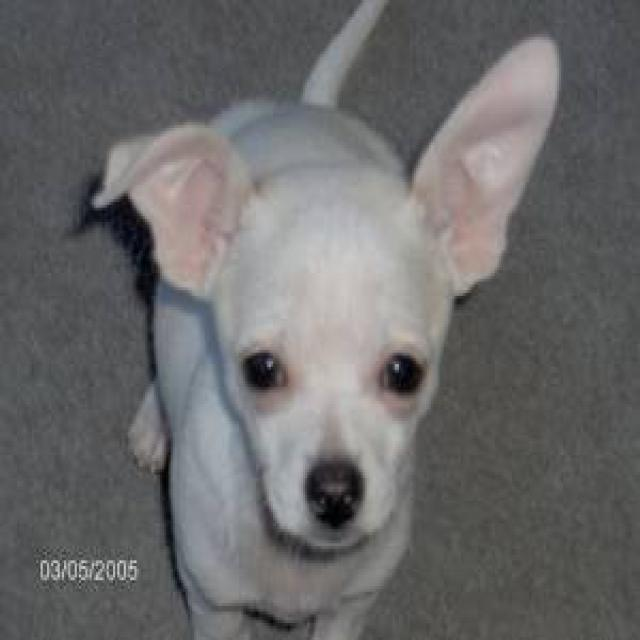dog-chihuahua: (94, 3, 576, 634)
